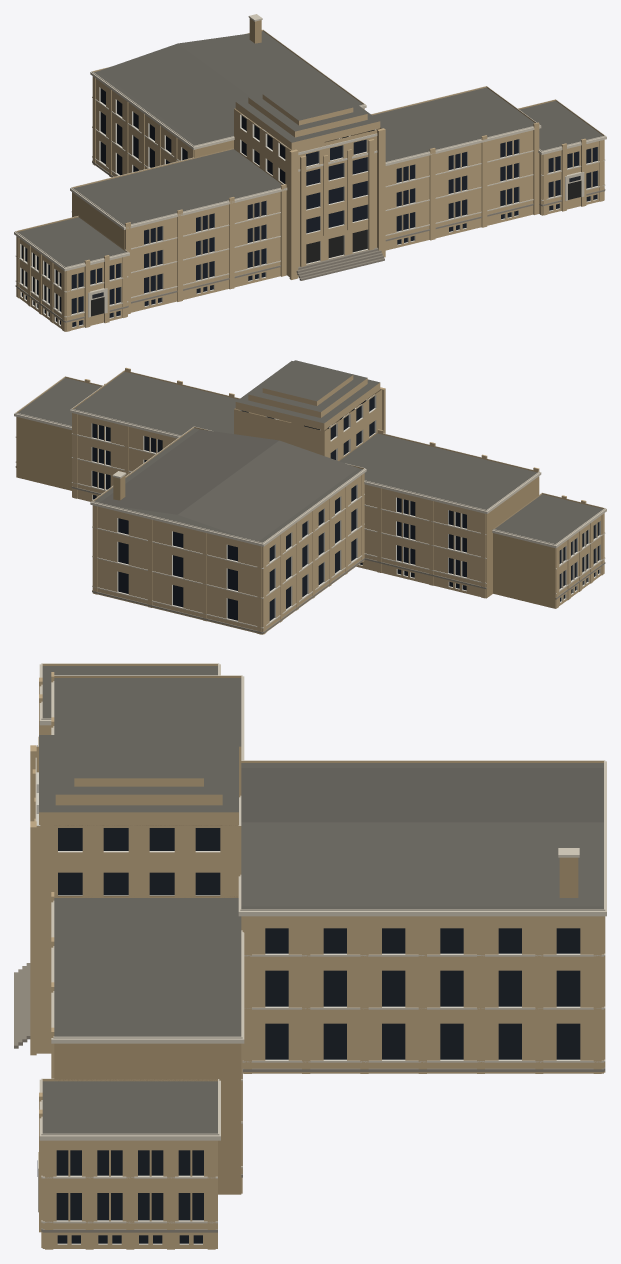
File: north-little-rock-high-school.glb
3 renders of one model, top to bottom at view 1: azimuth 30°, elevation 25°; view 2: azimuth 150°, elevation 25°; view 3: azimuth 270°, elevation 25°, orthographic. The views are drawn at different scales.
Parts seen in each view (by area): view 1: north_brick, north_roof, north_glass, north_stone, north_sash, north_base, north_brick2, north_dark; view 2: north_brick, north_roof, north_brick2, north_glass, north_stone, north_sash, north_base; view 3: north_roof, north_brick, north_glass, north_stone, north_brick2, north_base, north_sash.
Part boxes in pixels (<box>): north_brick: <box>16,30,604,331</box>; north_roof: <box>17,31,602,266</box>; north_glass: <box>21,88,597,326</box>; north_stone: <box>14,14,606,317</box>; north_sash: <box>20,87,598,327</box>; north_base: <box>15,160,605,322</box>; north_brick2: <box>16,18,555,249</box>; north_dark: <box>91,181,581,316</box>; north_brick: <box>16,367,604,634</box>; north_roof: <box>18,360,602,543</box>; north_brick2: <box>16,370,555,608</box>; north_glass: <box>92,396,599,620</box>; north_stone: <box>14,370,606,628</box>; north_sash: <box>91,394,600,622</box>; north_base: <box>15,466,605,633</box>; north_roof: <box>39,666,603,1133</box>; north_brick: <box>30,664,605,1249</box>; north_glass: <box>56,828,580,1243</box>; north_stone: <box>35,663,606,1223</box>; north_brick2: <box>54,676,578,1194</box>; north_base: <box>14,963,605,1232</box>; north_sash: <box>36,772,580,1244</box>.
Size of the model in its own units: 95.5 by 24.5 by 50.7.
